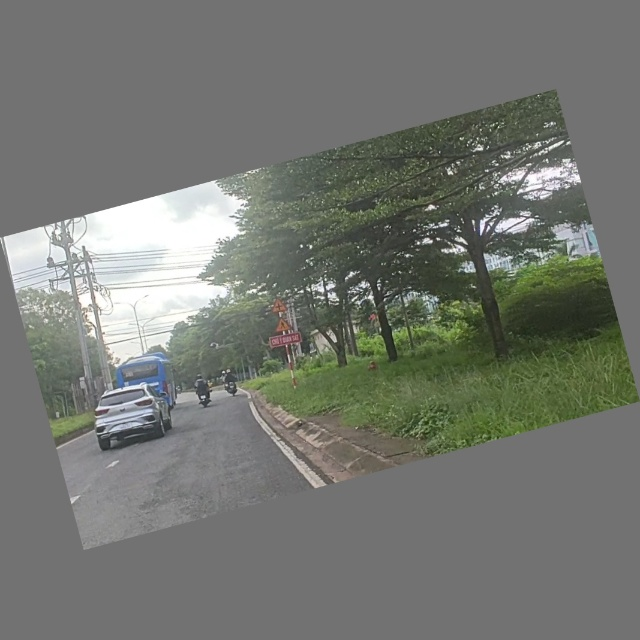W.205a: (268, 295, 289, 315)
W.224: (271, 313, 296, 335)
